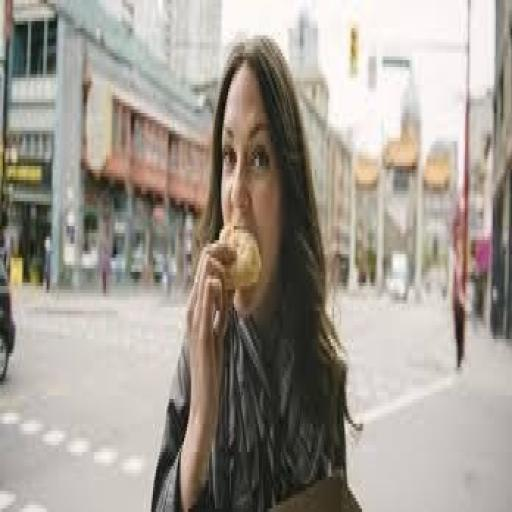eating: (148, 32, 364, 505)
